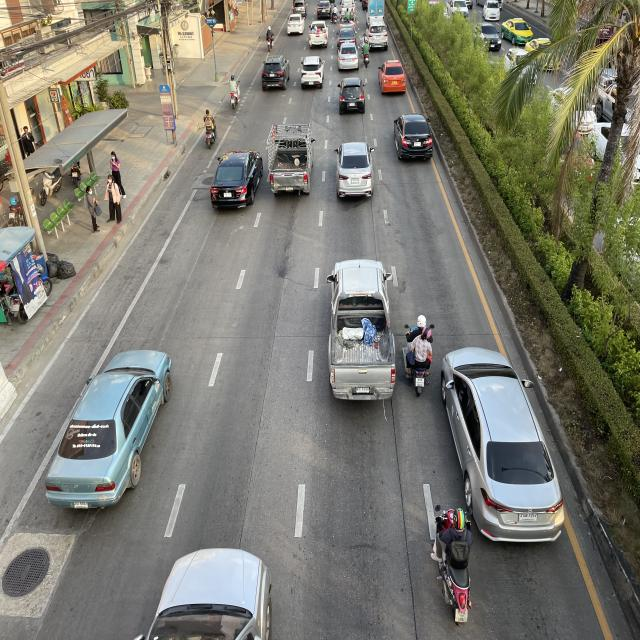bike: (426, 494, 476, 632), (400, 307, 435, 397), (200, 107, 220, 151), (227, 70, 243, 114)
car: (438, 343, 567, 546), (42, 345, 175, 519), (127, 541, 276, 640), (326, 257, 396, 404), (209, 148, 264, 210), (333, 140, 376, 202), (392, 113, 434, 162)
truck: (265, 122, 316, 197)
